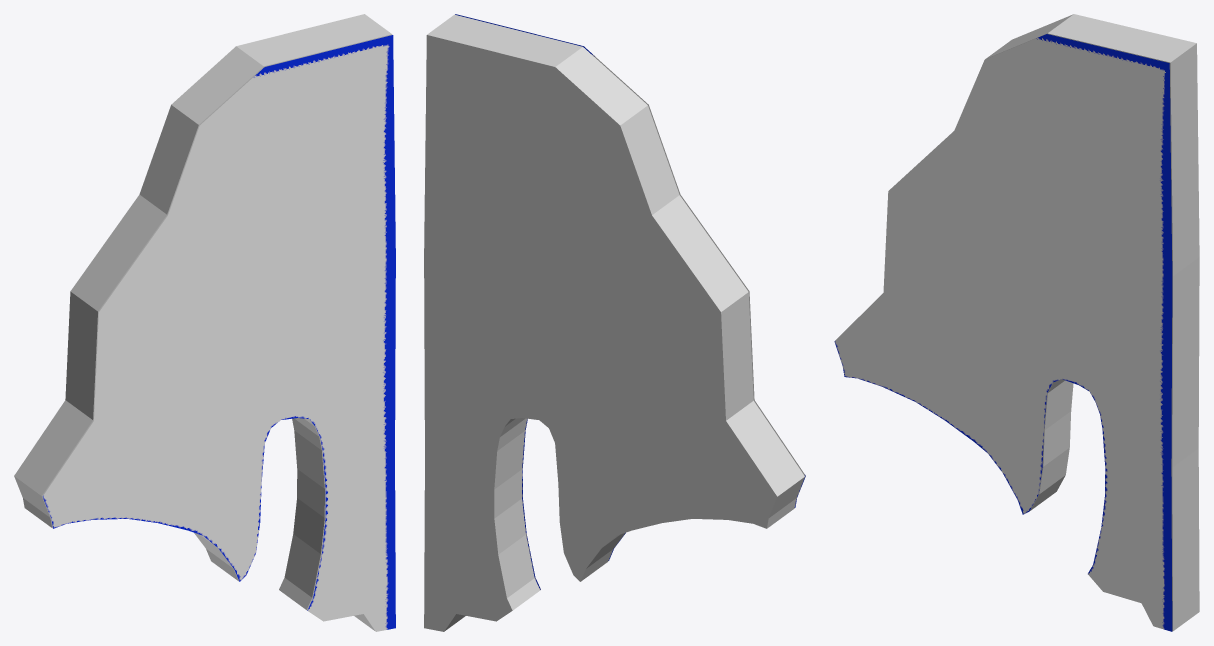
3 views of the same model, side by side, from view 1: azimuth 30°, elevation 25°; view 2: azimuth 150°, elevation 25°; view 3: azimuth 330°, elevation 25° (orthographic). The views are drawn at different scales.
Visible parts, largest first — view 1: Out_4_1, Out_4_0; view 2: Out_4_0, Out_4_1; view 3: Out_4_1, Out_4_0.
Part boxes in pixels (left/top/right/bottom): Out_4_1: left=42, top=35, right=395, bottom=631; Out_4_0: left=14, top=14, right=392, bottom=630; Out_4_0: left=424, top=14, right=804, bottom=631; Out_4_1: left=455, top=14, right=805, bottom=589; Out_4_1: left=834, top=34, right=1172, bottom=631; Out_4_0: left=986, top=14, right=1199, bottom=631.
Bounding box in the file's own units: 3.68 × 5.92 × 0.515.
2 materials, 1 textured.
